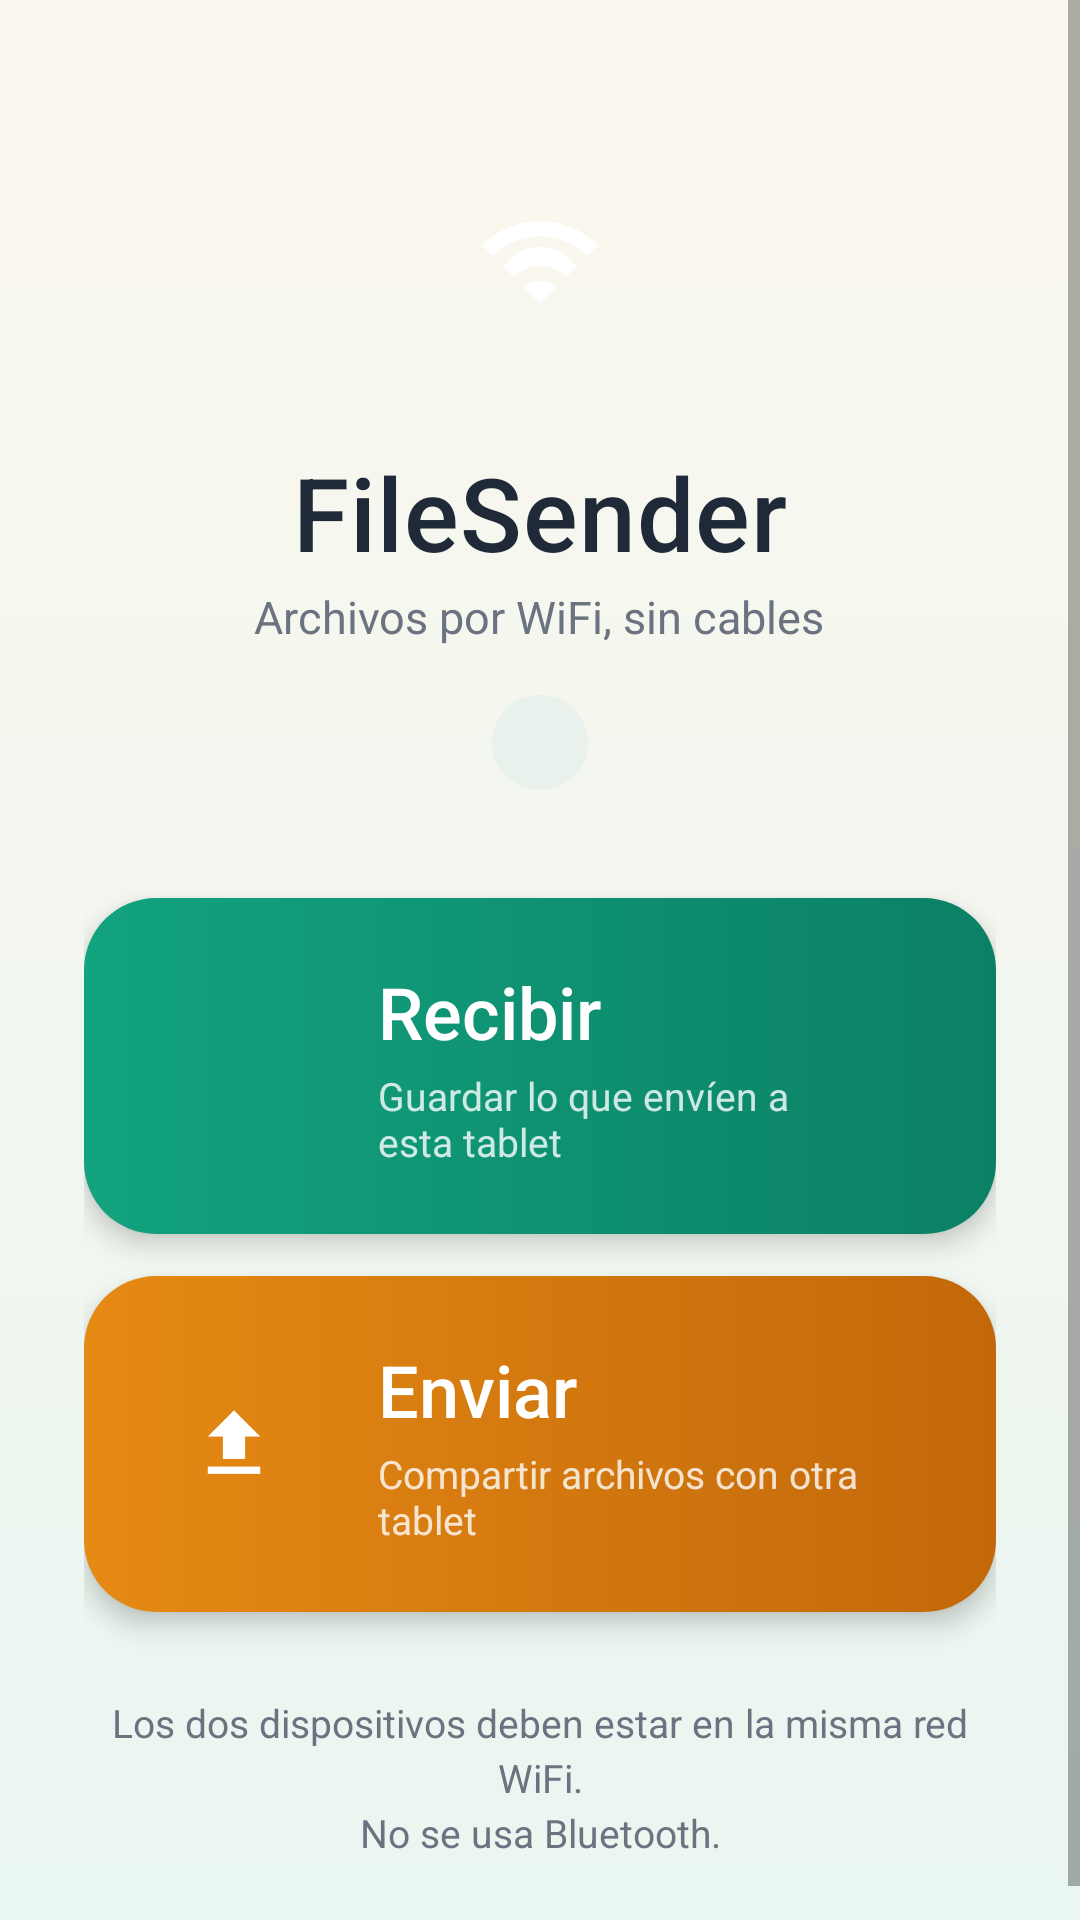

Where icons sit on this 1080x1920 app screen, as [x1, y1, x2, y2]:
upload: [207, 1410, 261, 1474]
